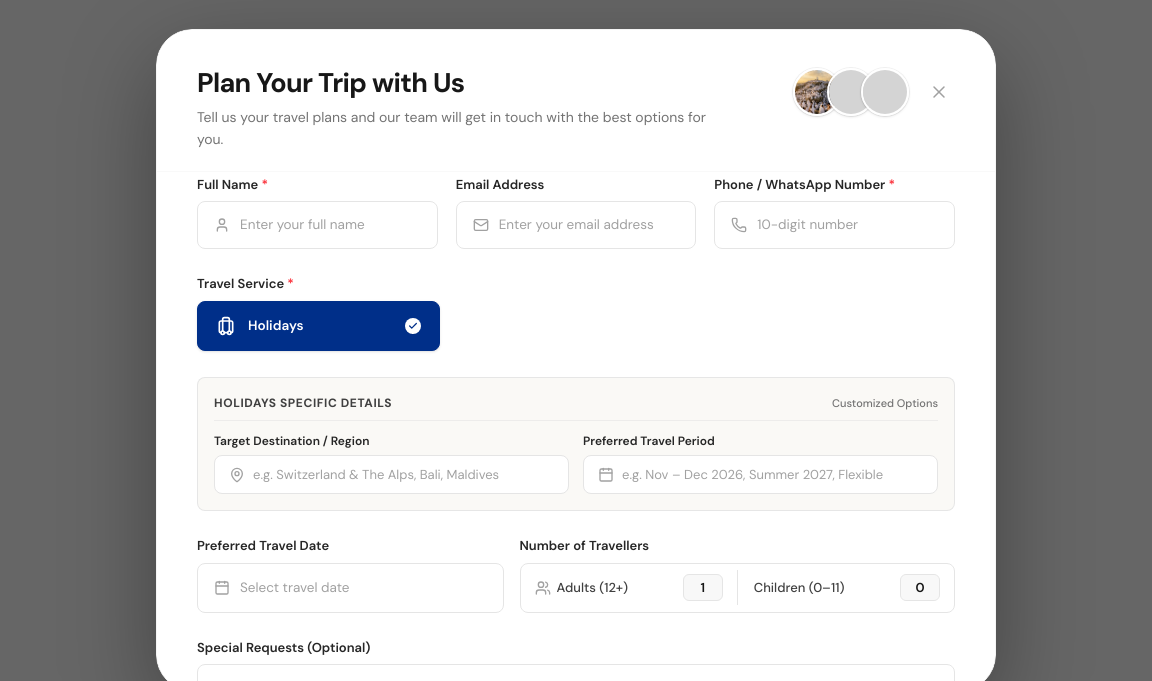
Test: public capture › only confirms a real returned reference and submits trimmed contract fields
This screenshot has width=1152, height=681.
Type "  Ahmed Ali  " into the field labelled "Full Name *" at (330, 225), box 240,216 -> 421,234
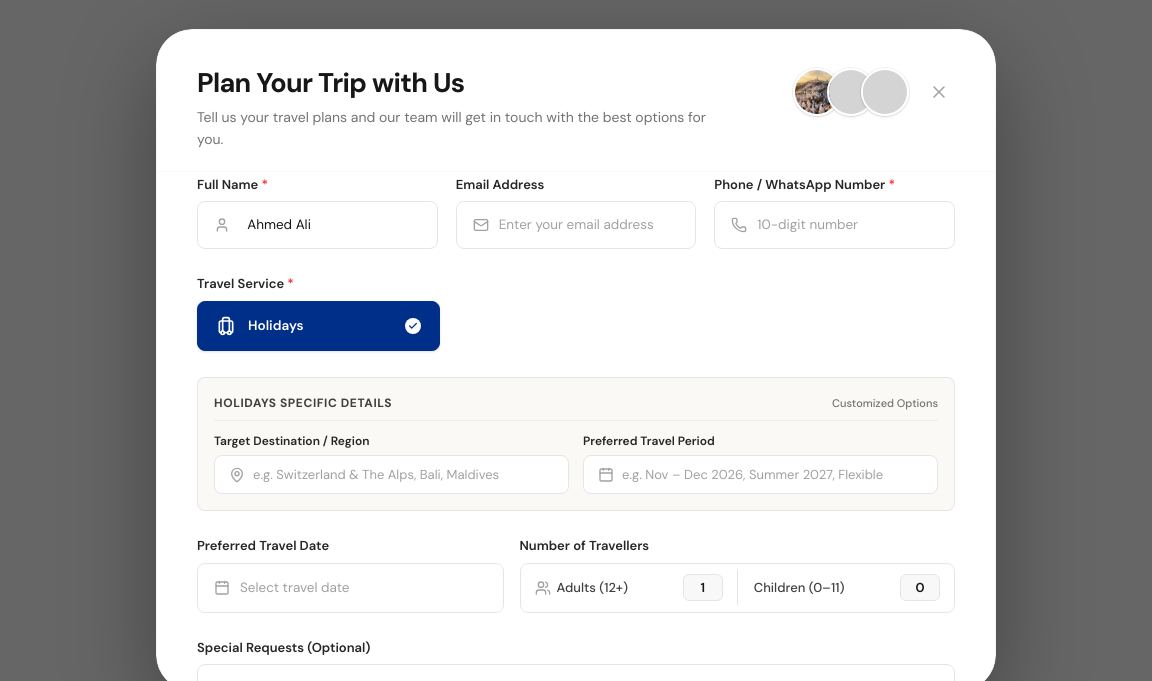
Type "9876543210" into the field labelled "Phone / WhatsApp Number *" at (848, 225), box 757,216 -> 938,234
(page scrolled)
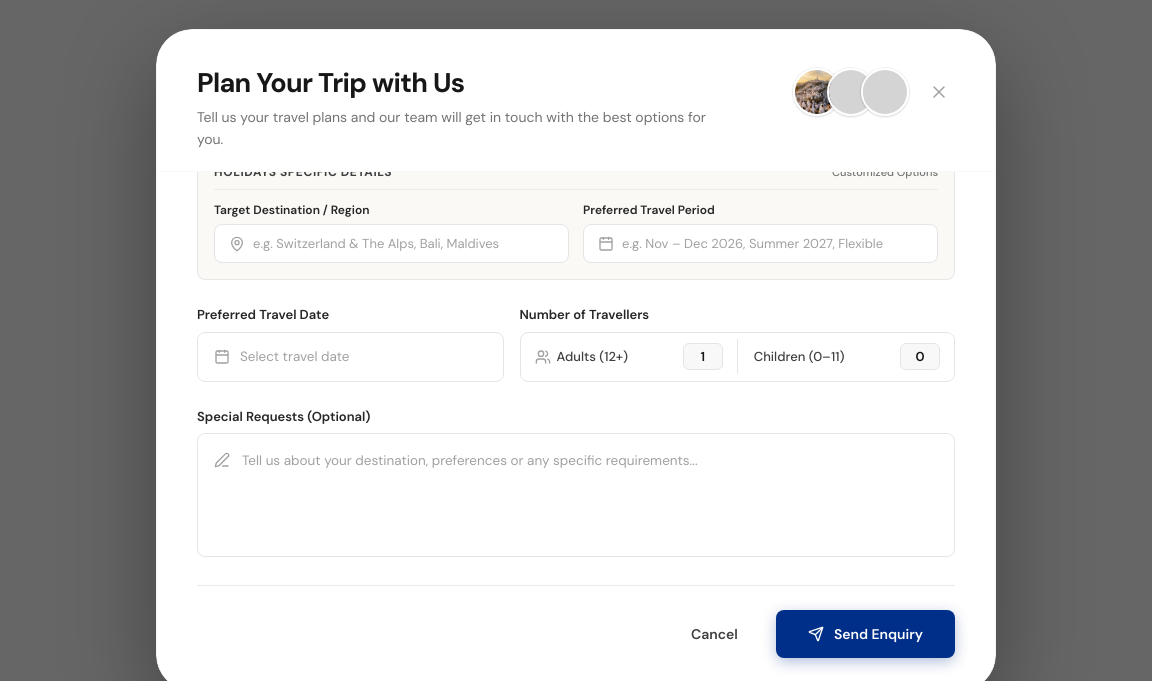
Replace the text in the text box named "Special Preferences or Itinerary Requests" with "Vegetarian meals" at (590, 495), box 242,450 -> 938,540
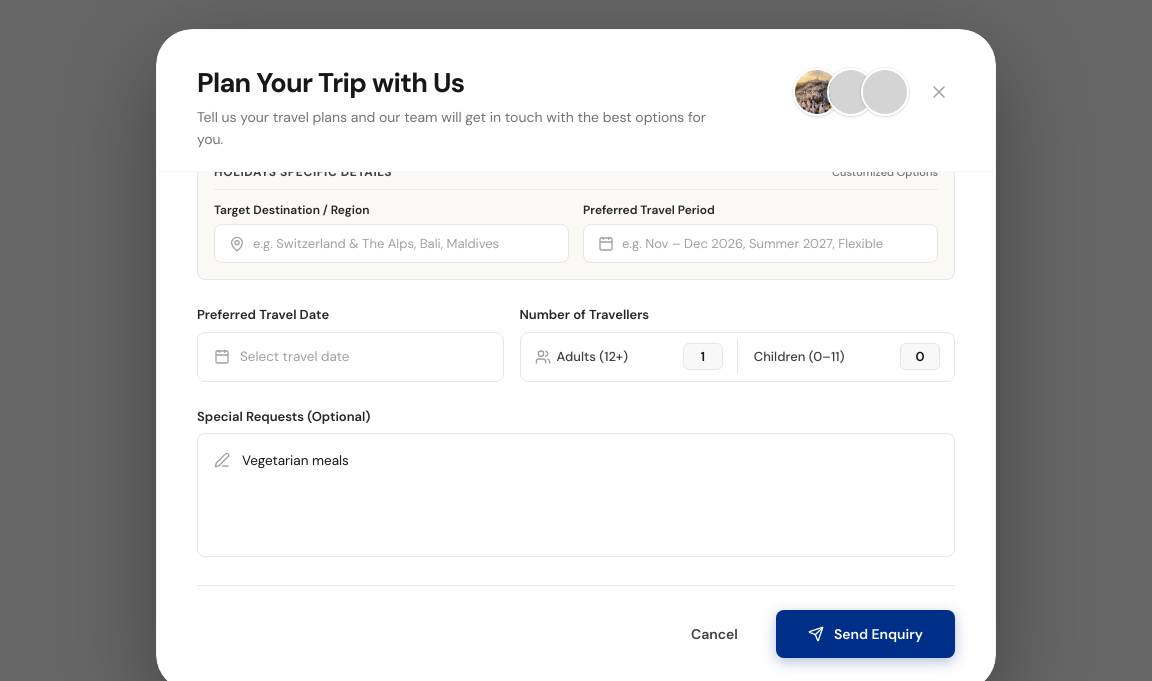
Click the button with aria-label "Submit Travel Enquiry" at (865, 634), box 776,610 -> 955,658
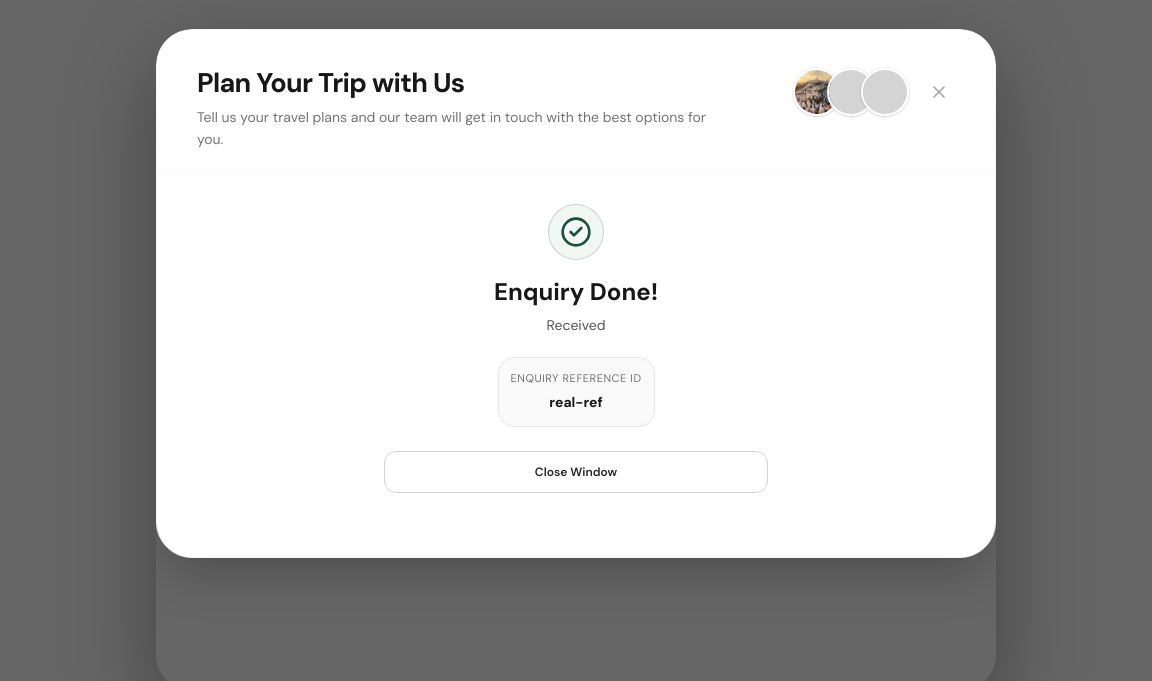
Expected: the label "WhatsApp" is not shown
Expected: the text "real-ref" is shown, 549,393 -> 603,411
